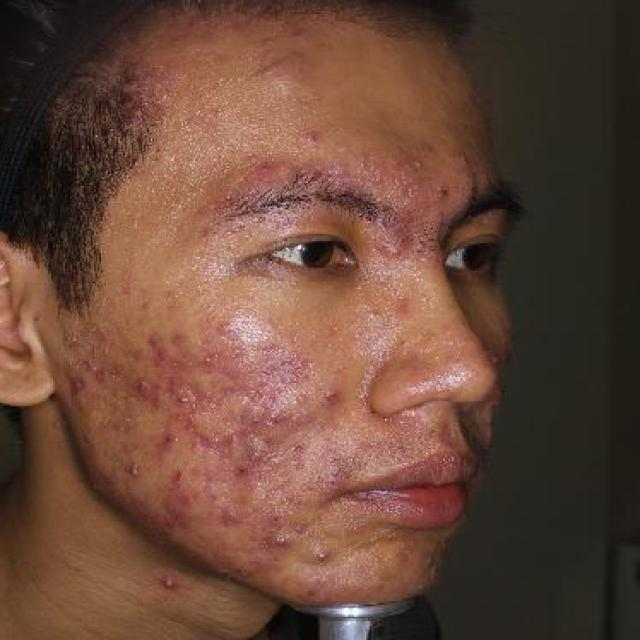blackheads: (229, 456, 255, 484)
nodules: (236, 27, 332, 104), (368, 208, 421, 264)
papules: (315, 378, 352, 422), (301, 536, 341, 572), (298, 118, 330, 157), (284, 383, 318, 414)
pustules: (151, 570, 188, 598), (306, 544, 336, 570), (407, 150, 433, 176), (122, 457, 144, 486), (288, 389, 316, 411), (132, 369, 156, 394)
